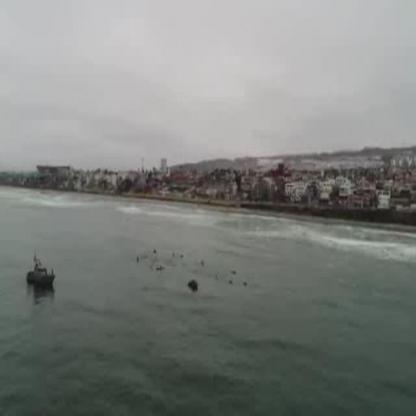Boat: (23, 250, 58, 296)
